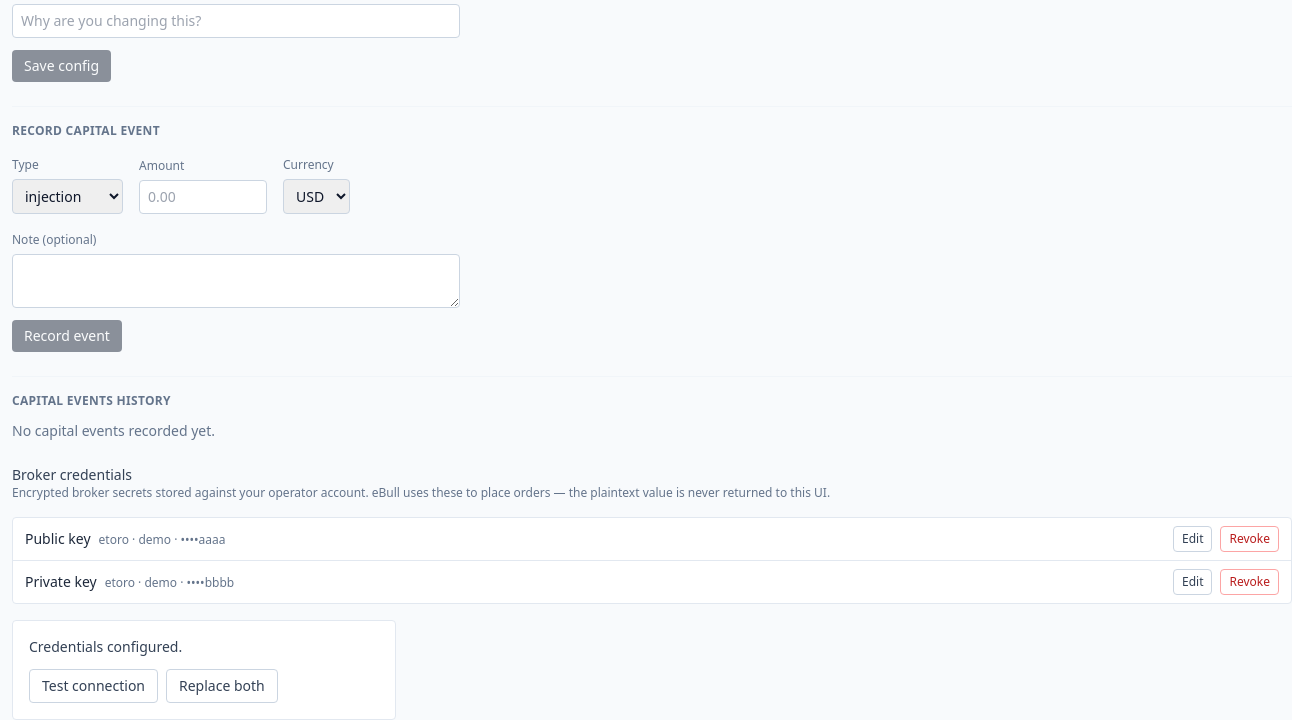
Scenario: SettingsPage — edit single key › cancel returns to idle management panel
The image size is (1292, 720).
(page scrolled)
Expected: the text "Public key" is shown, [25,529,91,548]
What coordinates should you click on to do the following:
click the button "Edit" in the row of "Public key"
I would click on:
 (1193, 539)
Its box is [1173,526,1212,552].
(page scrolled)
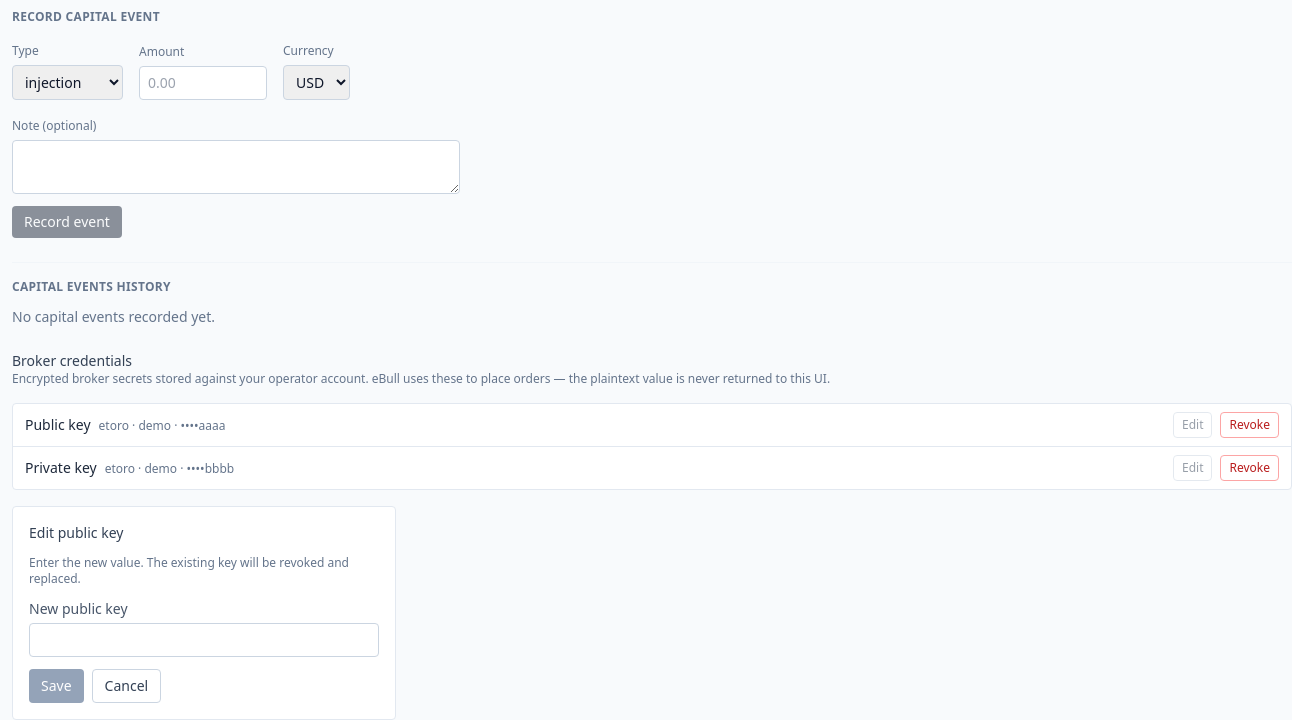
Result: the heading "Edit public key" is shown at [29,523,123,542]
What coordinates should you click on to do the following:
click the button "Cancel"
I would click on:
 (126, 686)
Its box is [92,669,161,703].
(page scrolled)
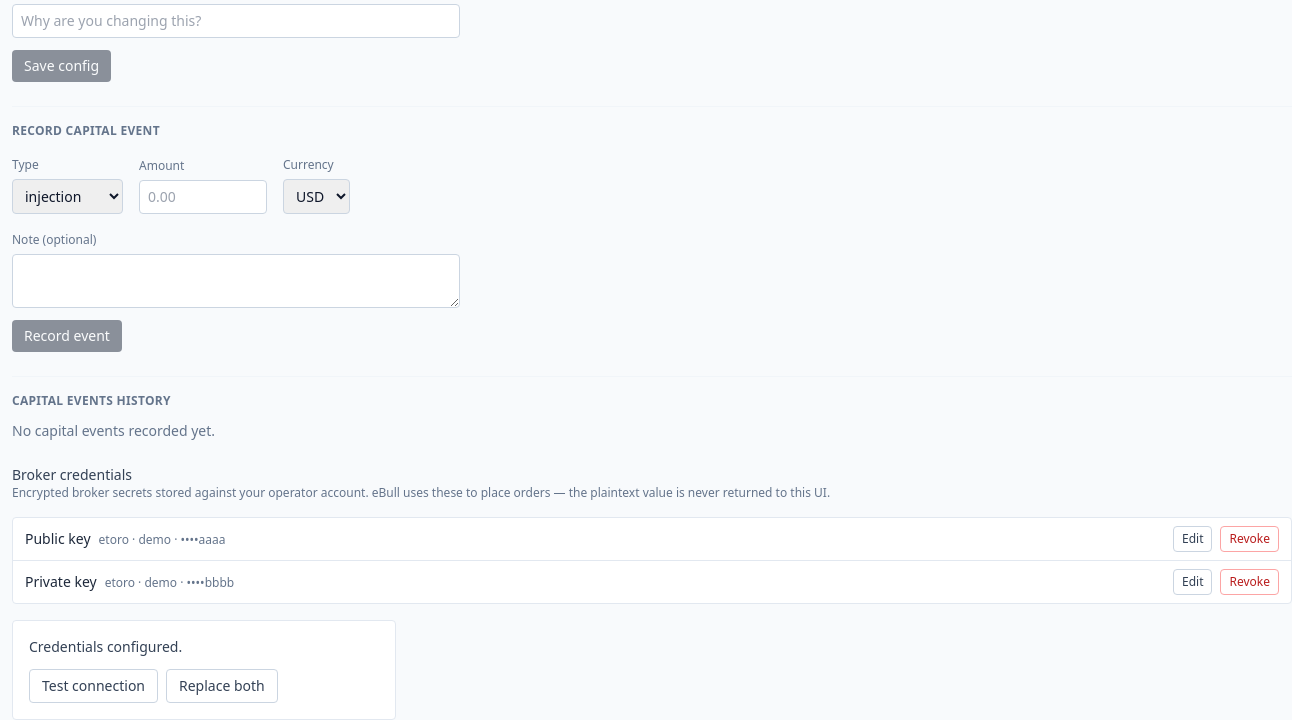
Result: the button "Test connection" is shown at [29,669,158,703]
